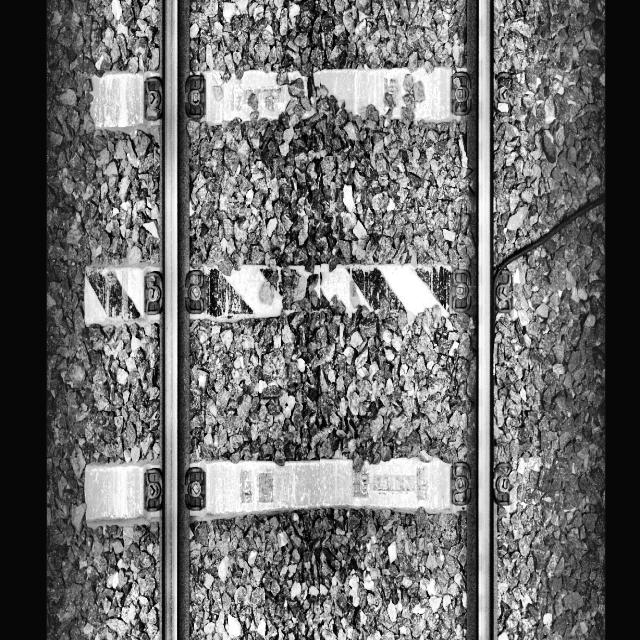Clips: (448, 72, 474, 115), (184, 74, 207, 119), (184, 269, 206, 314), (142, 76, 164, 120), (184, 466, 206, 509), (452, 269, 473, 312), (143, 468, 163, 512), (493, 72, 512, 118), (452, 461, 471, 507), (492, 463, 512, 506), (144, 272, 163, 316), (494, 269, 512, 314)
Sleepers: (84, 262, 521, 324), (83, 459, 521, 519), (90, 73, 538, 129)
